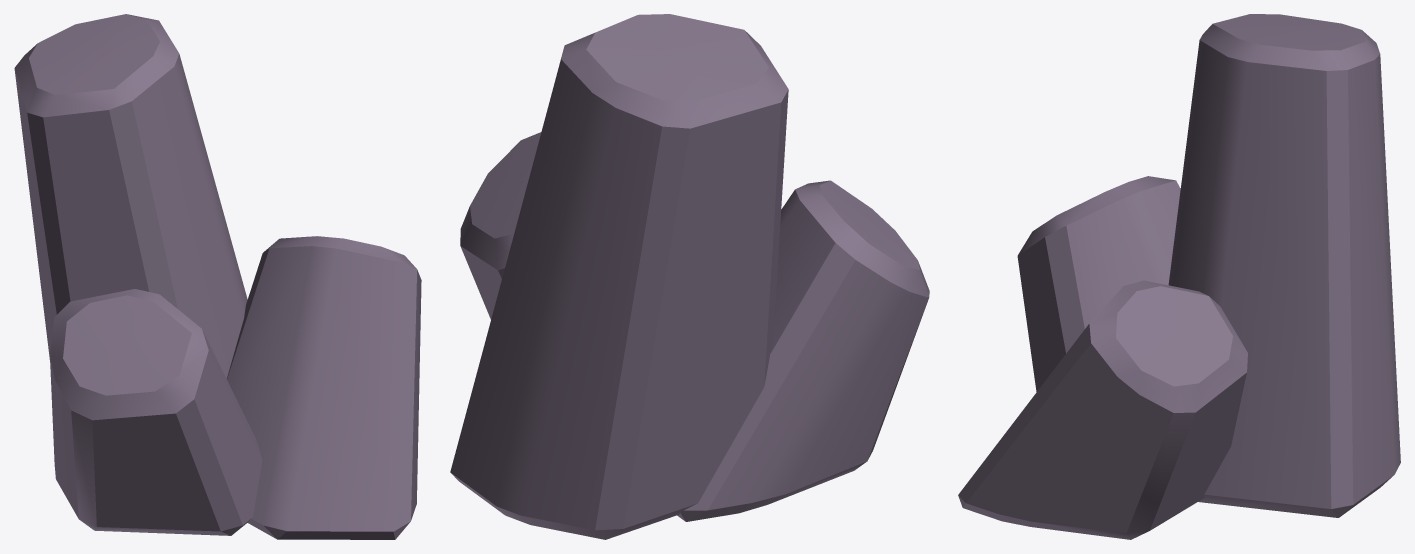
Rendered from crystal_purple.glb.
3 renders of one model, left to right at view 1: azimuth 30°, elevation 25°; view 2: azimuth 150°, elevation 25°; view 3: azimuth 270°, elevation 25°, orthographic. The views are drawn at different scales.
Visible parts, largest first — view 1: Crystal_Small; view 2: Crystal_Small; view 3: Crystal_Small.
Part boxes in pixels (x1,y1,x2,y2): Crystal_Small: [14, 14, 421, 539]; Crystal_Small: [450, 14, 929, 539]; Crystal_Small: [958, 14, 1400, 539].
Size of the model in its own units: 0.7488 by 0.8 by 0.7656.
1 material, 1 textured.
